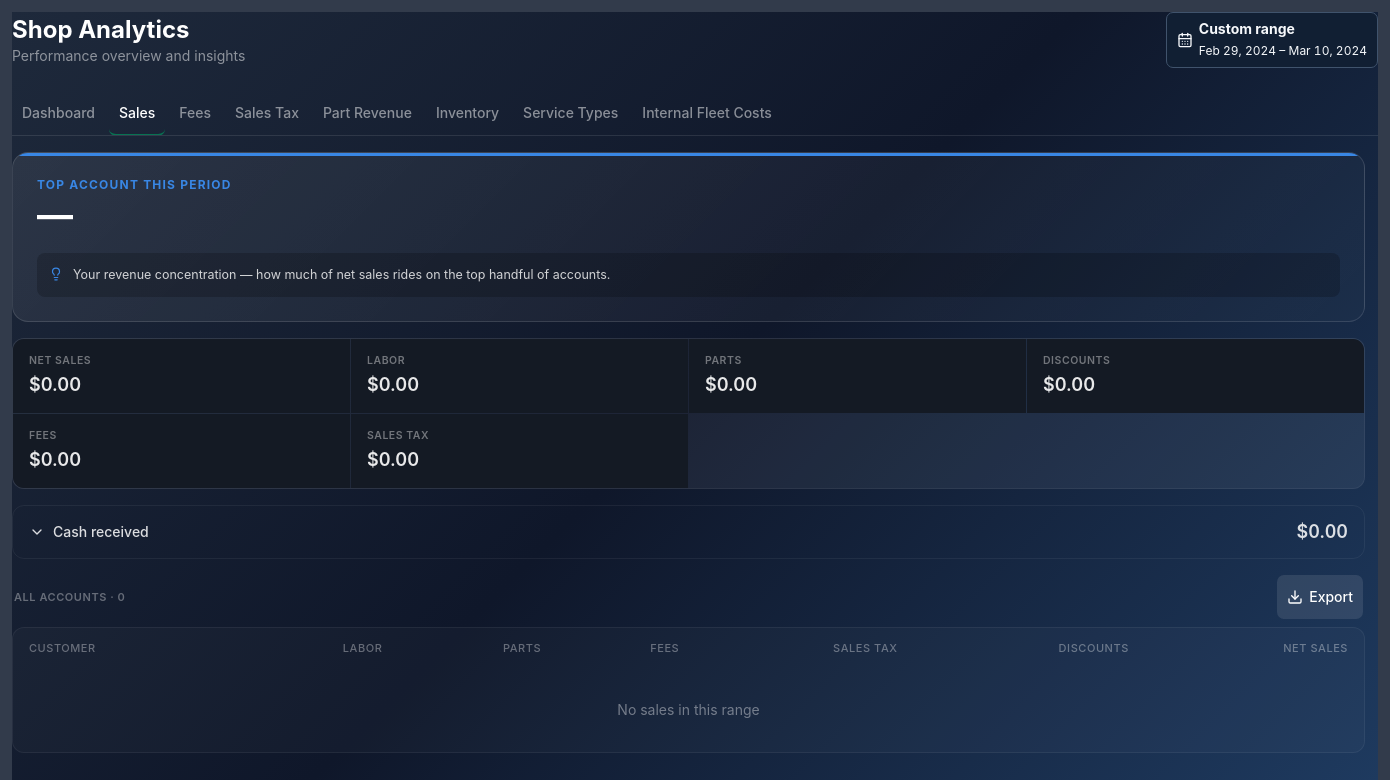
Test: Analytics report date contract › shows an explicit zero and empty receipt state
Expected: the heading "Cash received $0.00" is shown, [29,521,1348,542]
Click the text "Cash received" at x=101, y=532, box [53,522,149,542]
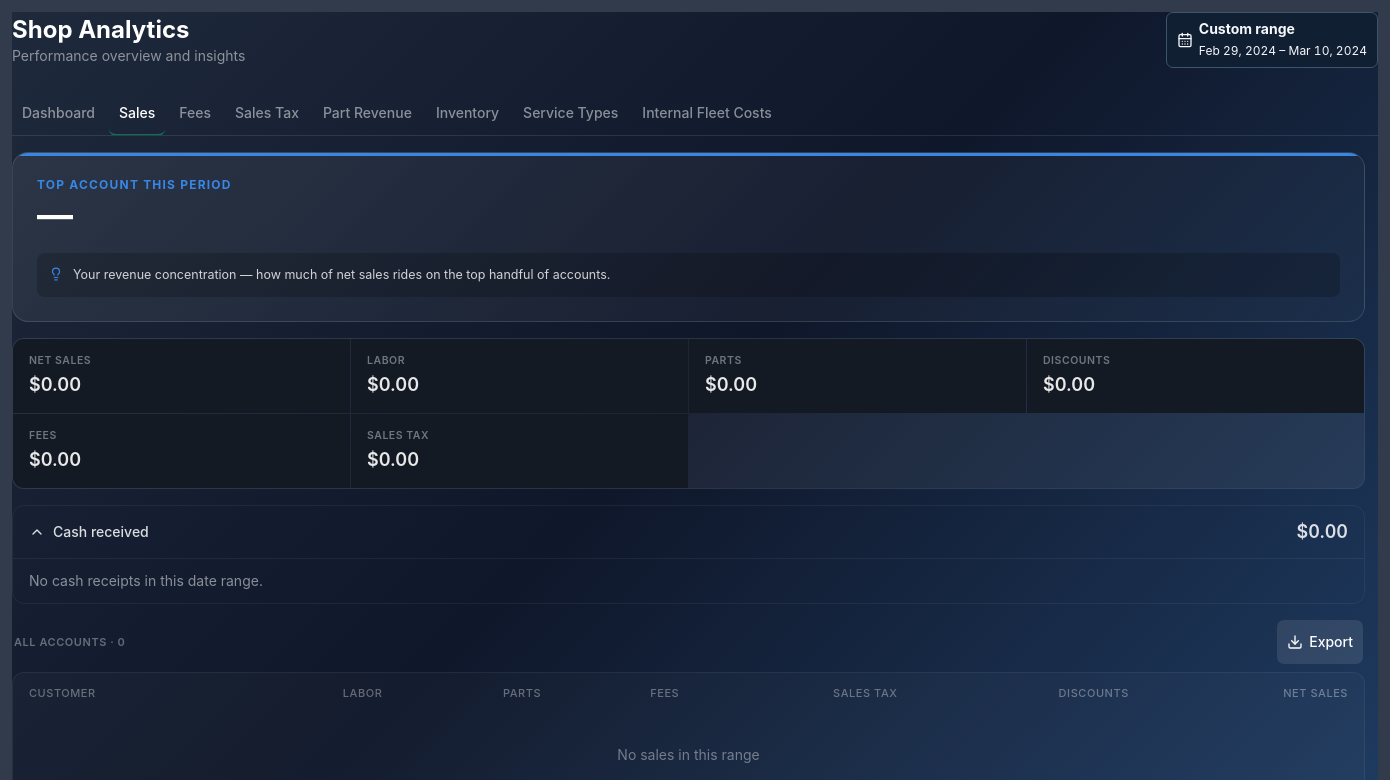
Now the text "No cash receipts in this date range." is shown, box [29,572,263,589]
